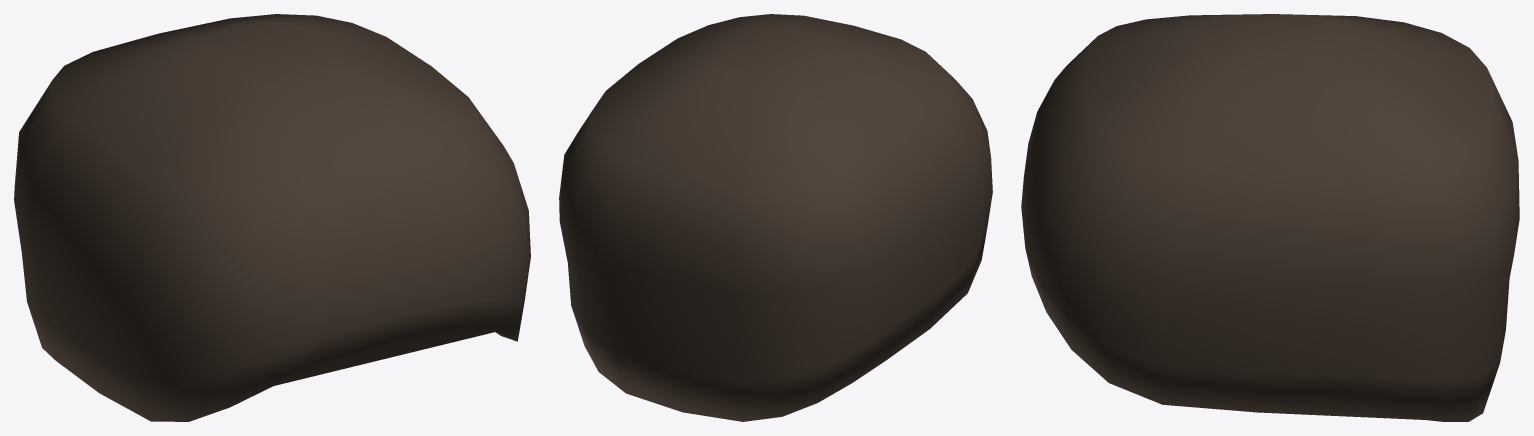
Rendered from hair_short.glb.
3 views of the same model, side by side, from view 1: azimuth 30°, elevation 25°; view 2: azimuth 150°, elevation 25°; view 3: azimuth 270°, elevation 25° (orthographic). The views are drawn at different scales.
Parts seen in each view (by area): view 1: hair_short; view 2: hair_short; view 3: hair_short.
Part boxes in pixels (left/top/right/bottom): hair_short: left=14, top=14, right=530, bottom=421; hair_short: left=559, top=14, right=992, bottom=421; hair_short: left=1021, top=14, right=1519, bottom=421.
Bounding box in the file's own units: 0.1784 × 0.151 × 0.1987.
